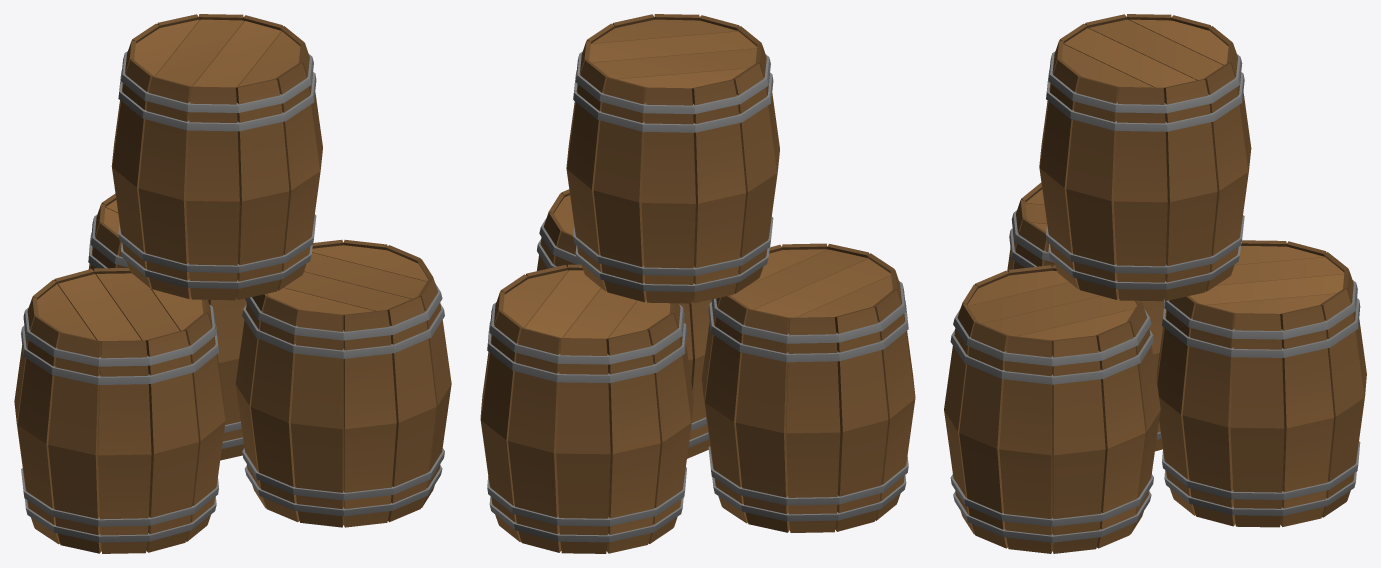
The model's file is Prop_Barrel_Pile_02.obj.
3 renders of one model, left to right at view 1: azimuth 30°, elevation 25°; view 2: azimuth 150°, elevation 25°; view 3: azimuth 270°, elevation 25°, orthographic.
Visible parts, largest first — view 1: Prop_Barrel_Pile_02; view 2: Prop_Barrel_Pile_02; view 3: Prop_Barrel_Pile_02.
Part boxes in pixels (x1,y1,x2,y2): Prop_Barrel_Pile_02: (14,14,451,553); Prop_Barrel_Pile_02: (480,14,915,553); Prop_Barrel_Pile_02: (944,14,1366,553).
Bounding box in the file's own units: 1.69 × 1.8 × 1.62.
Materials: 1 (1 with a texture image).
